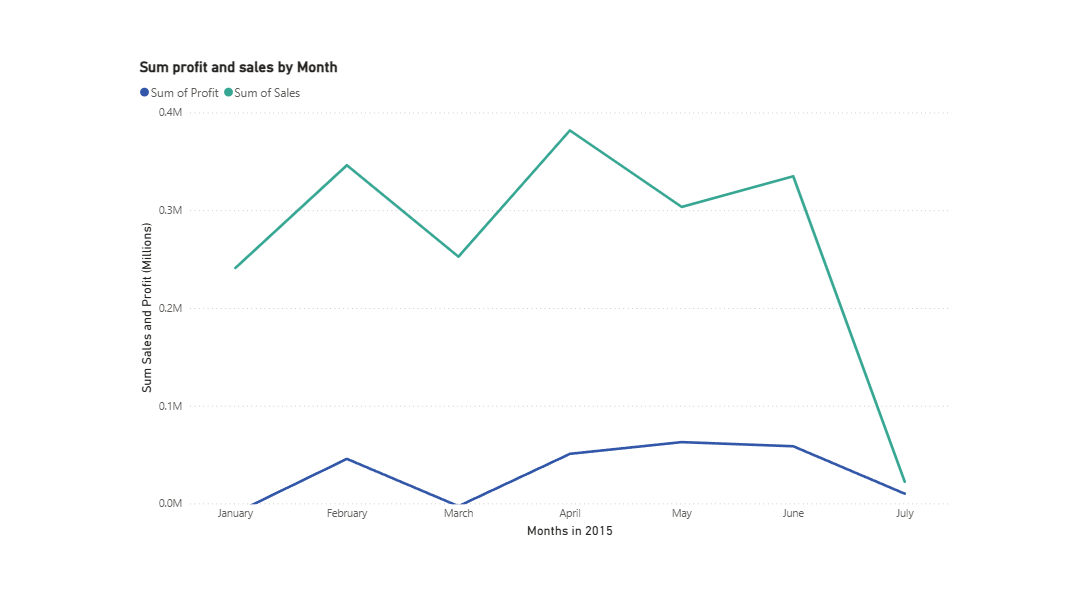

This screenshot's page, from the dashboard's own definition file:
{"tool":"powerbi","page":{"name":"Sales/Profit in time","canvas":[1280,720],"ordinal":7},"visuals":[{"type":"lineChart","title":"Sum profit and sales by Month","fields":{"Category":["df_Orders_Returns.Ship Date.Variation.Date Hierarchy.Month"],"Y":["Sum(df_Orders_Returns.Profit)","Sum(df_Orders_Returns.Sales)"]},"box":[171.5,83.8,936,553.1],"z":0}]}

Visuals, with their boxes in screenshot pixels (x1, y1, x2, y2), scaled from the page's 1280x720 canvas onto the 1087x603 screenshot:
"Sum profit and sales by Month" lineChart: 146, 70, 941, 533
